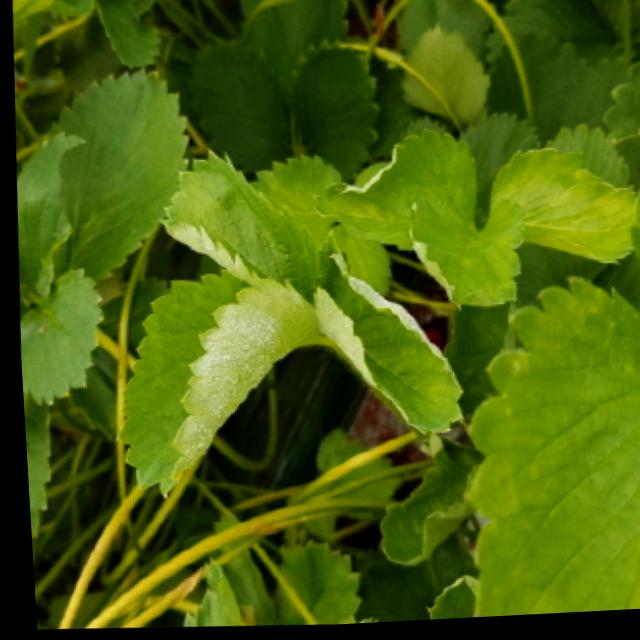Powdery Mildew Leaf: (110, 268, 327, 501), (155, 149, 337, 300), (306, 276, 458, 437), (309, 130, 475, 230), (403, 200, 525, 312)
